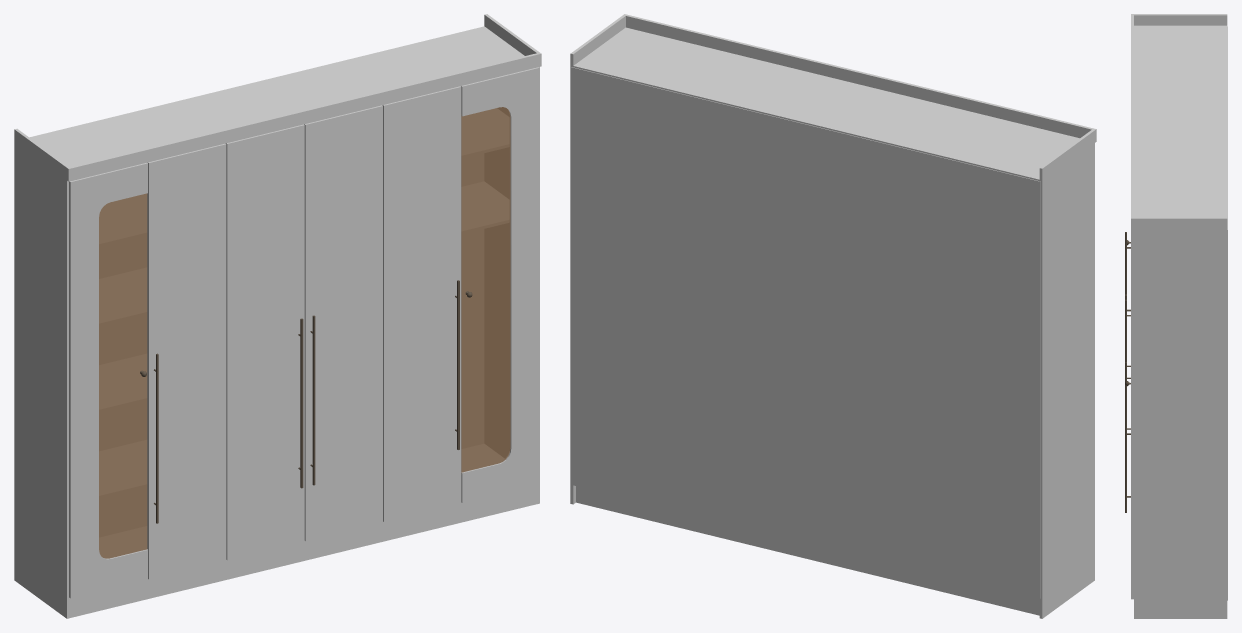
Rendered from H546_BR_ANDROID.glb.
3 views of the same model, side by side, from view 1: azimuth 30°, elevation 25°; view 2: azimuth 150°, elevation 25°; view 3: azimuth 270°, elevation 25° (orthographic). The views are drawn at different scales.
Parts seen in each view (by area): view 1: Assembly-7, Assembly-9, PUXADOR021; view 2: Assembly-7; view 3: Assembly-7, PUXADOR021.
Boxes of the visible parts, x1,y1,x2,y2 form: Assembly-7: (14, 14, 541, 618); Assembly-9: (99, 107, 510, 558); PUXADOR021: (140, 280, 472, 523); Assembly-7: (570, 14, 1096, 618); Assembly-7: (1131, 14, 1227, 618); PUXADOR021: (1125, 232, 1130, 512).
Size of the model in its own units: 2.49 by 2.27 by 0.5278.
Materials: 4 (1 with a texture image).
